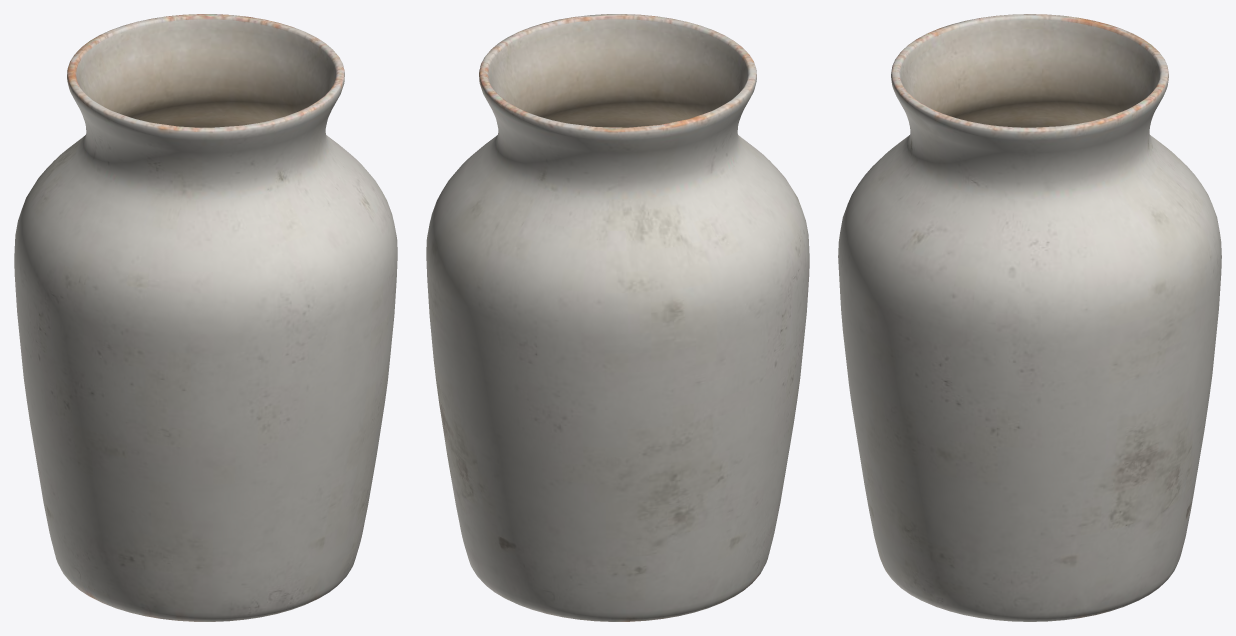
The model's file is ceramic_vase_02.glb.
The picture shows the model from 3 angles, left to right: view 1: azimuth 30°, elevation 25°; view 2: azimuth 150°, elevation 25°; view 3: azimuth 270°, elevation 25°; orthographic projection.
Parts seen in each view (by area): view 1: ceramic_vase_02; view 2: ceramic_vase_02; view 3: ceramic_vase_02.
Part boxes in pixels (bbox=[...]): ceramic_vase_02: bbox=[14, 14, 397, 621]; ceramic_vase_02: bbox=[426, 14, 809, 621]; ceramic_vase_02: bbox=[838, 14, 1221, 621].
Bounding box in the file's own units: 0.2184 × 0.3092 × 0.2184.
Materials: 1 (1 with a texture image).
